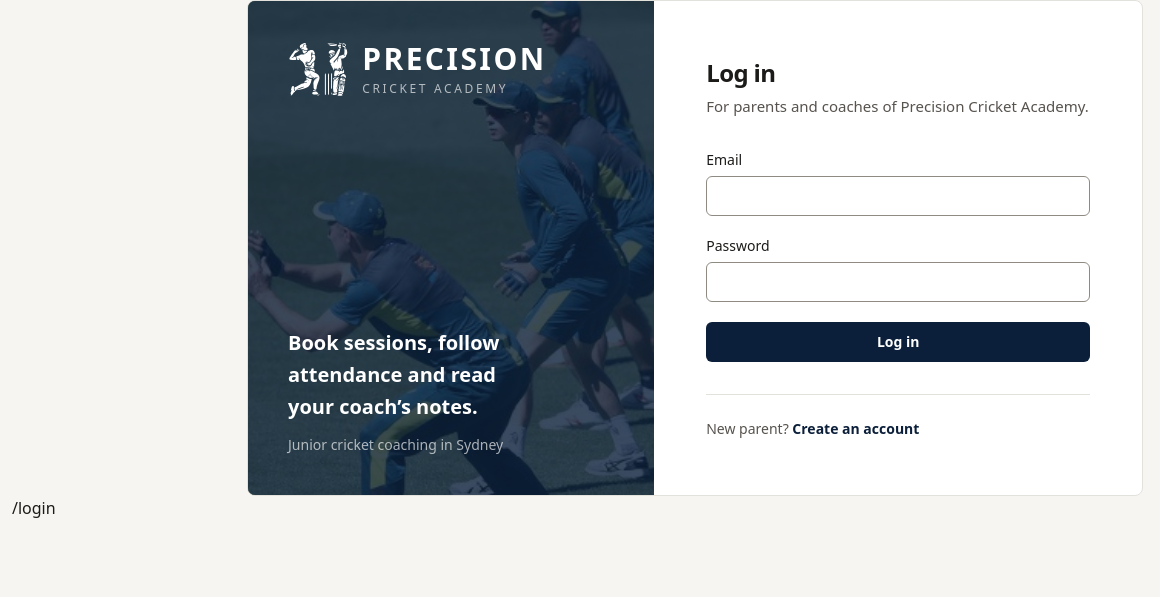
Test: LoginPage › shows the error from the backend when login fails
Type "parent@example.com" into the field labelled "Email" at [898, 196], box 706,176 -> 1090,216
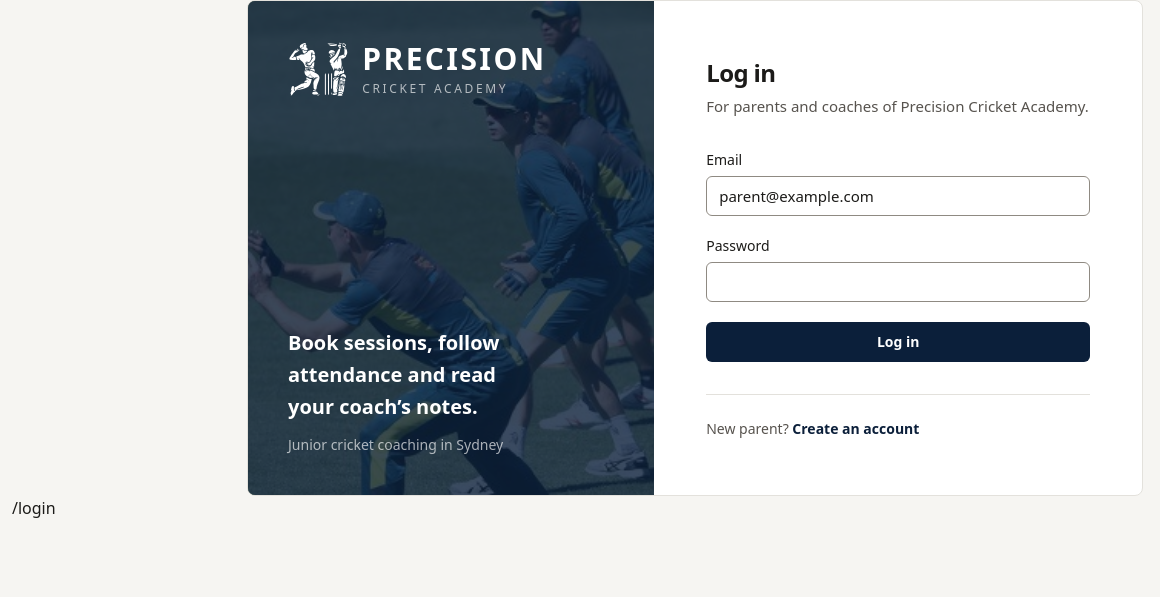
Type "wrong" into the password field labelled "Password" at [898, 282], box 706,262 -> 1090,302
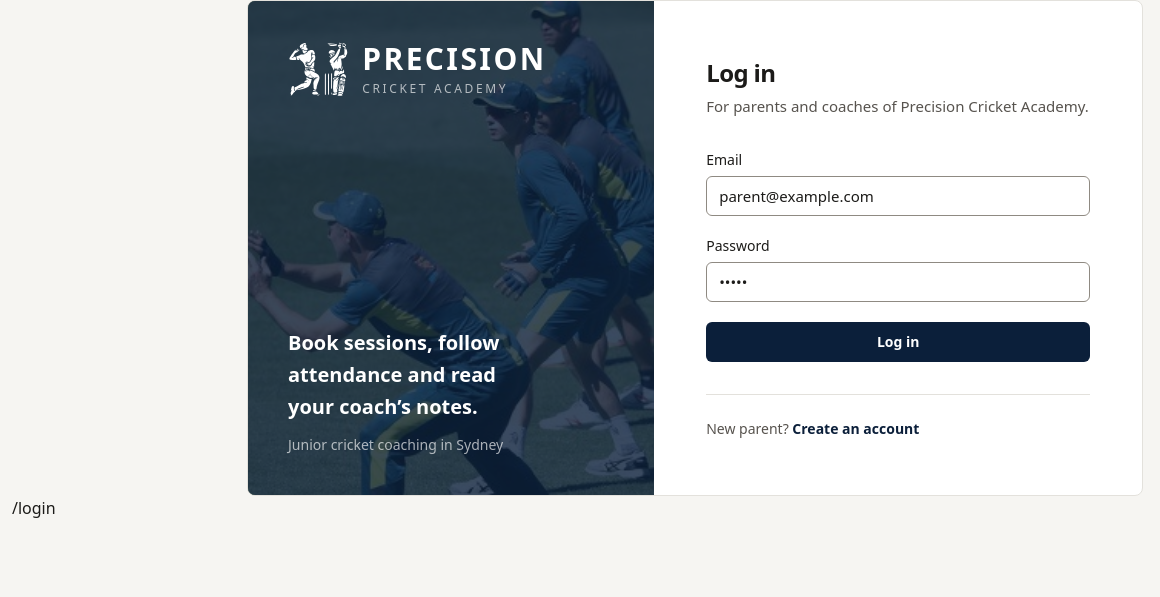
Click the button "Log in" at [898, 342], box 706,322 -> 1090,362
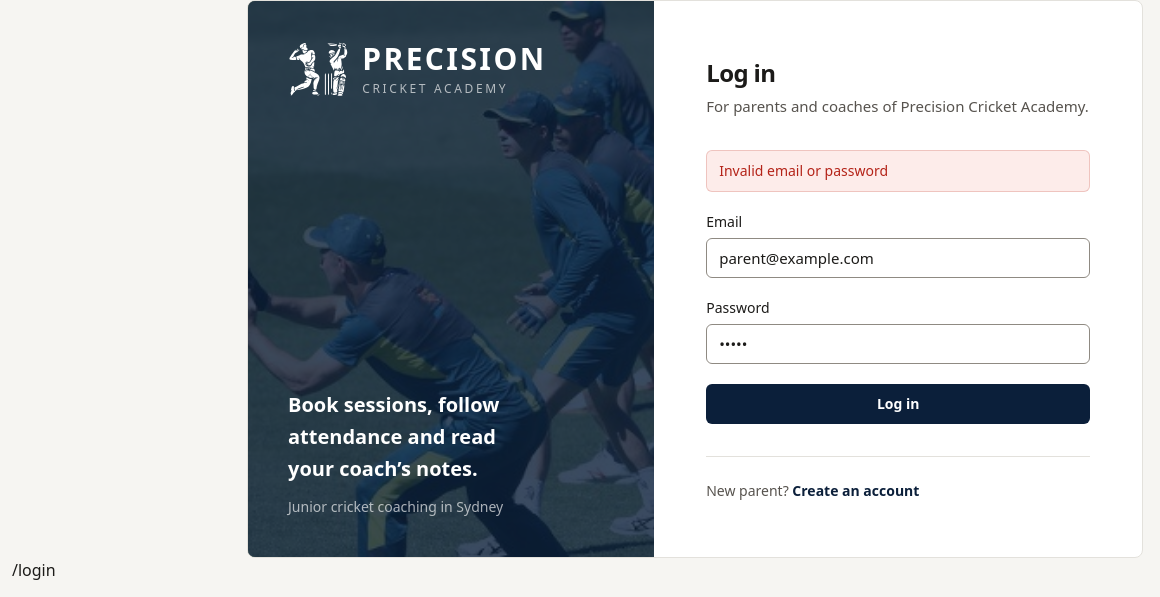
Expected: the text with test id "current-path" reads "/login", 12,558 -> 56,580
Now the message reads "Invalid email or password", box 719,160 -> 888,180
